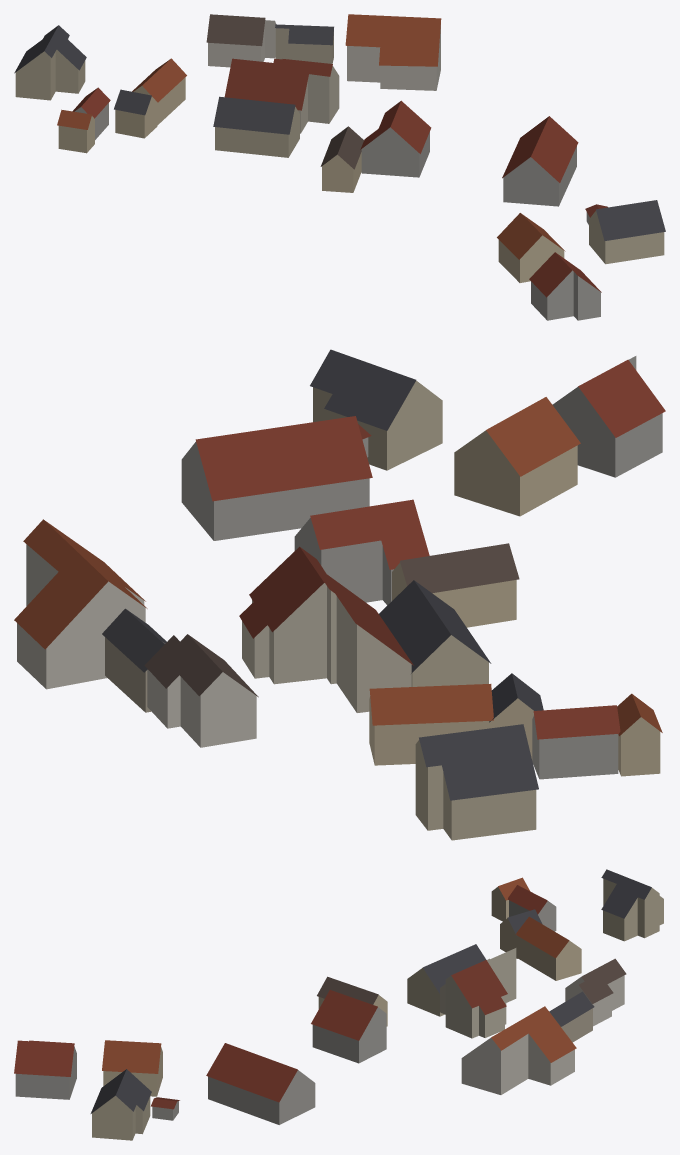
3 renders of one model, top to bottom at view 1: azimuth 30°, elevation 25°; view 2: azimuth 150°, elevation 25°; view 3: azimuth 270°, elevation 25°, orthographic. The views are drawn at different scales.
Visible parts, largest first — view 1: buildings; view 2: buildings; view 3: buildings.
Boxes of the visible parts, x1,y1,x2,y2 form: buildings: (14,14,665,320); buildings: (14,349,665,840); buildings: (14,869,663,1140).
Size of the model in its own units: 103 by 26.22 by 147.
